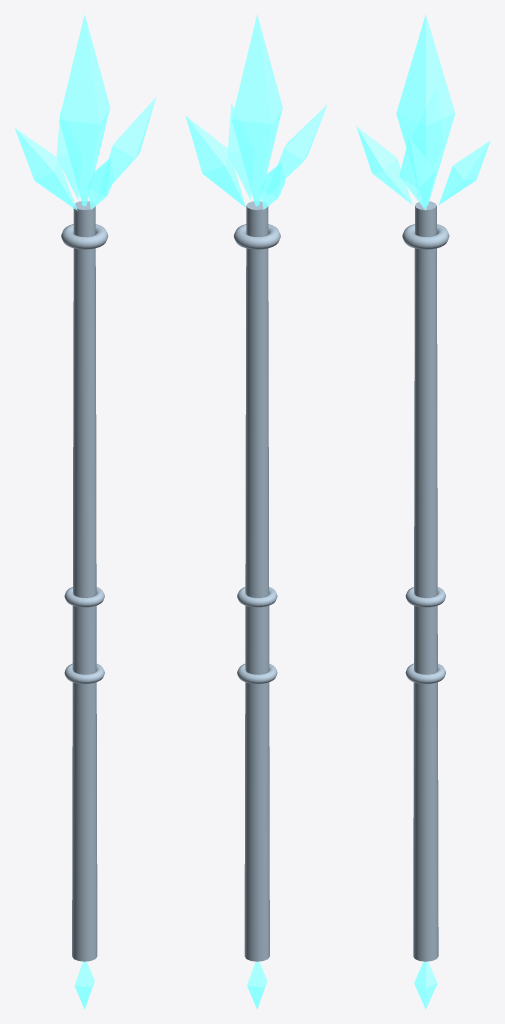
Rendered from staff_ice.glb.
3 views of the same model, side by side, from view 1: azimuth 30°, elevation 25°; view 2: azimuth 210°, elevation 25°; view 3: azimuth 270°, elevation 25° (orthographic).
Parts seen in each view (by area): view 1: shaft, glow_crystal; view 2: shaft, glow_crystal; view 3: shaft, glow_crystal.
Part boxes in pixels (x1=…): shaft: x1=61, y1=201, x2=108, y2=961; glow_crystal: x1=14, y1=14, x2=156, y2=1009; shaft: x1=233, y1=201, x2=280, y2=961; glow_crystal: x1=185, y1=14, x2=327, y2=1009; shaft: x1=402, y1=201, x2=449, y2=961; glow_crystal: x1=356, y1=14, x2=490, y2=1009.
Bounding box in the file's own units: 0.175 × 1.3 × 0.1592.
